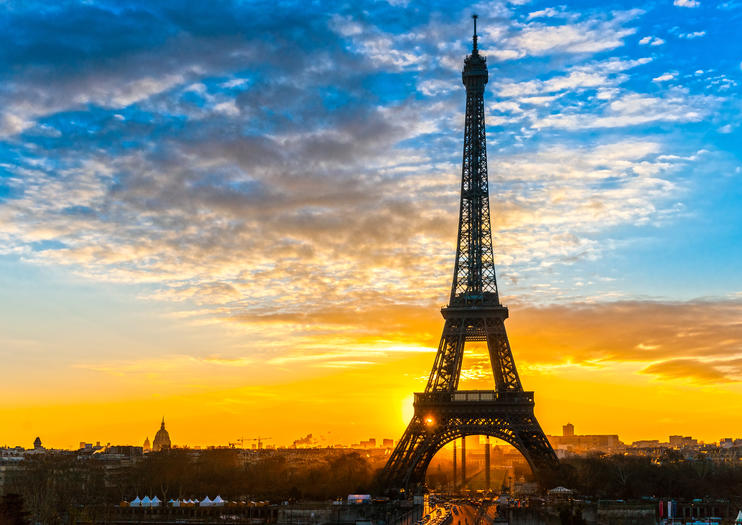eiffel tower: (344, 4, 590, 501)
